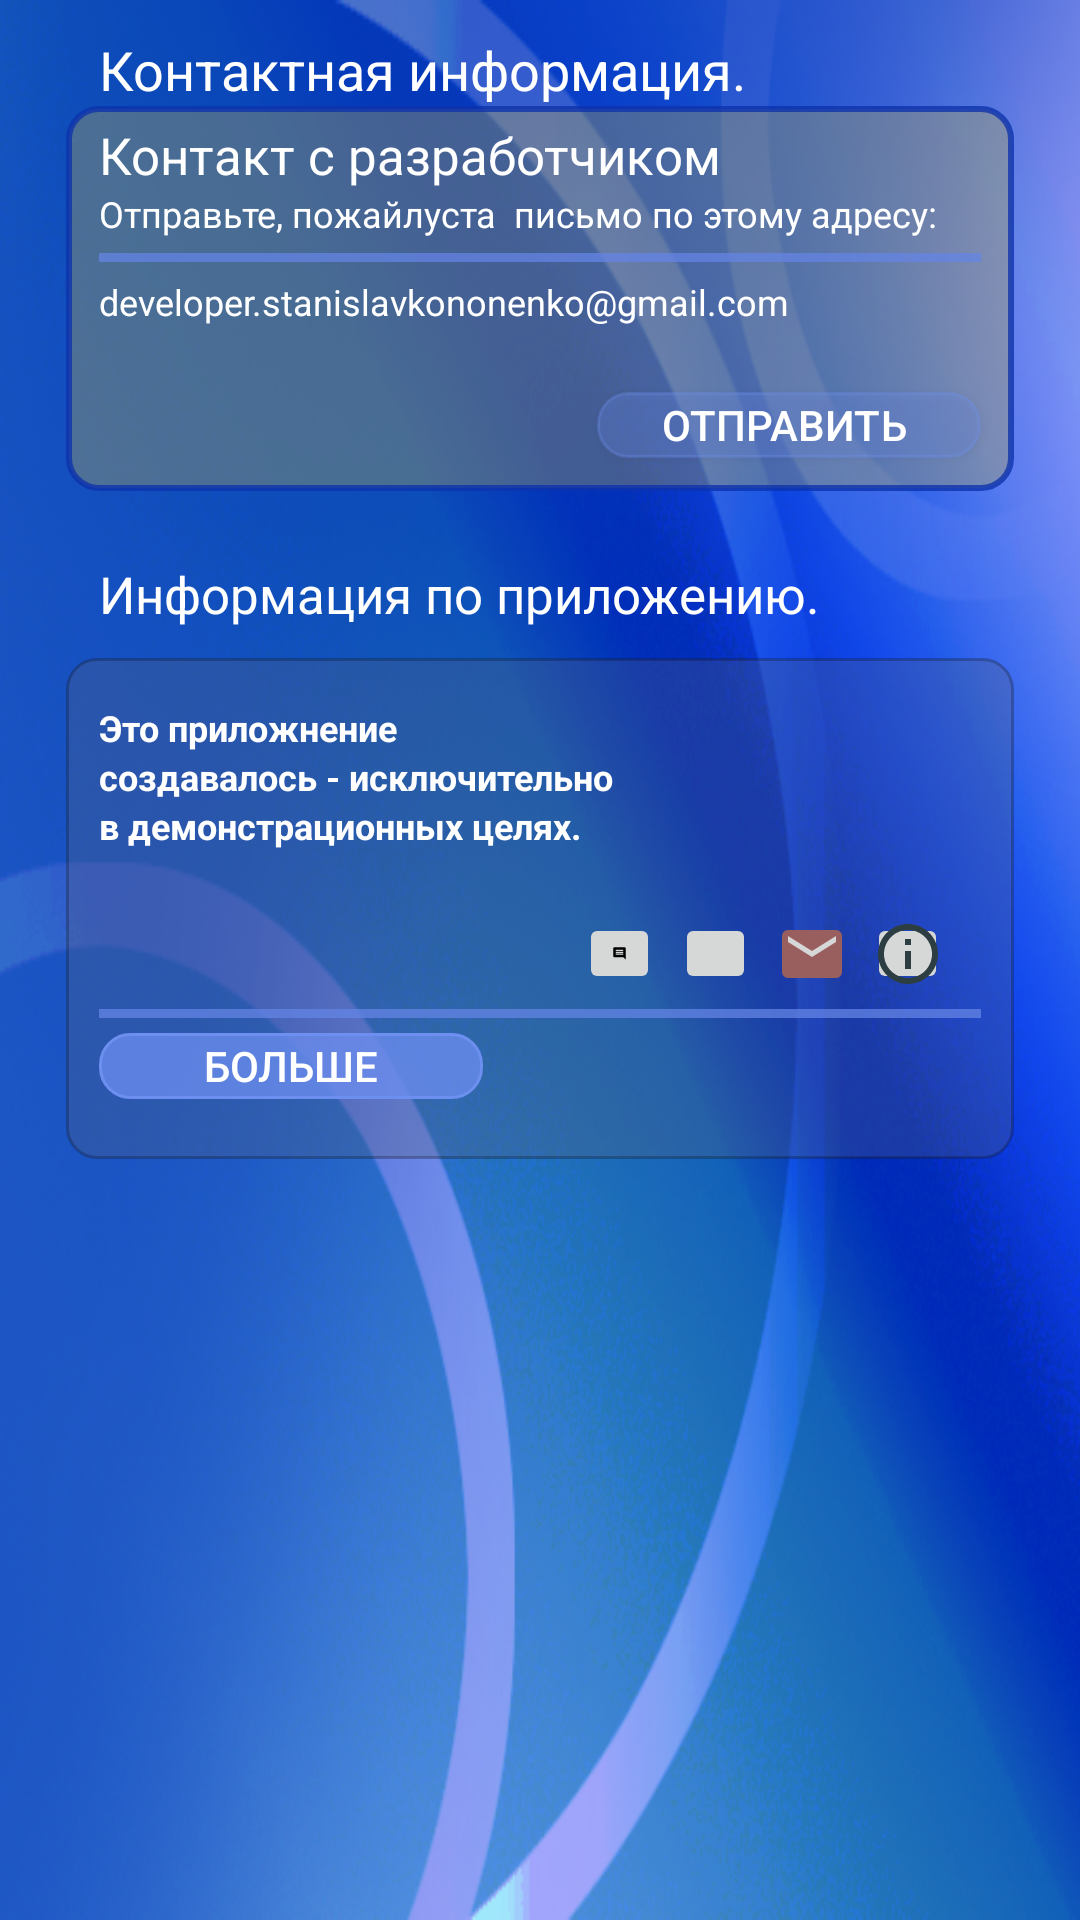

Icon bounding boxes for this 1080*1920 phone screenshot, format box=[x1, y1, x2, y2]:
email: box=[782, 913, 842, 978]
info: box=[867, 916, 938, 994]
insert comment: box=[591, 931, 648, 976]
